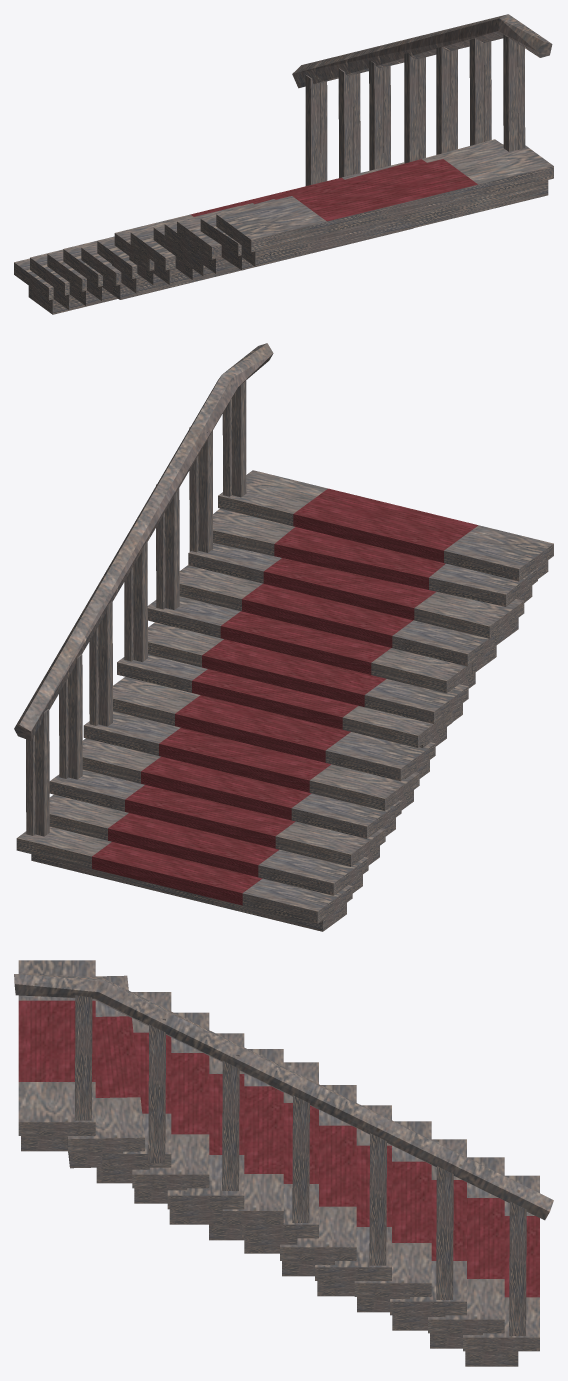
The model's file is old stairs.fbx.
3 renders of one model, top to bottom at view 1: azimuth 30°, elevation 25°; view 2: azimuth 150°, elevation 25°; view 3: azimuth 270°, elevation 25°, orthographic. The views are drawn at different scales.
Visible parts, largest first — view 1: Cylinder; view 2: Cylinder; view 3: Cylinder.
Part boxes in pixels (box(x1,y1,x2,y2)): Cylinder: box(14, 14, 553, 314); Cylinder: box(14, 343, 553, 931); Cylinder: box(14, 960, 553, 1366).
Bounding box in the file's own units: 213 × 231 × 291.
